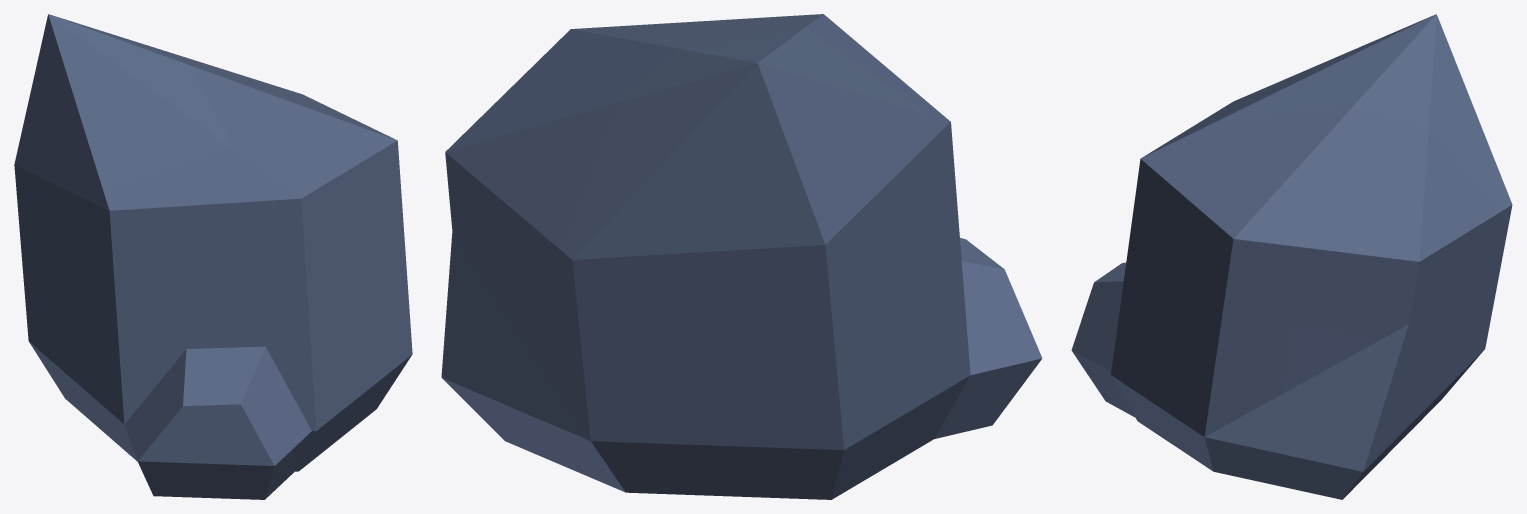
File: TreePackage.fbx_Rocks_3.fbx
The picture shows the model from 3 angles, left to right: view 1: azimuth 30°, elevation 25°; view 2: azimuth 150°, elevation 25°; view 3: azimuth 270°, elevation 25°; orthographic projection. The views are drawn at different scales.
Parts seen in each view (by area): view 1: Rock.002; view 2: Rock.002; view 3: Rock.002.
Boxes of the visible parts, bbox=[...] form: Rock.002: bbox=[14, 14, 412, 499]; Rock.002: bbox=[441, 14, 1042, 499]; Rock.002: bbox=[1071, 14, 1512, 499].
Bounding box in the file's own units: 102 × 109 × 117.
